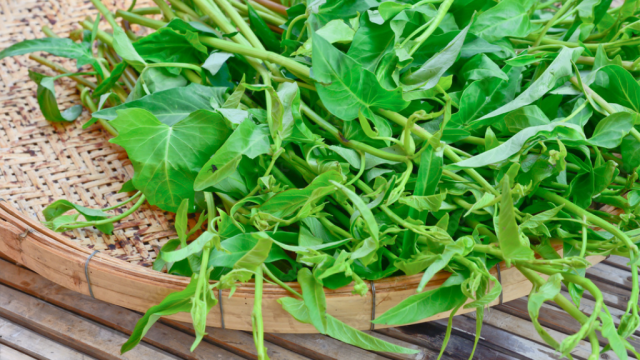Kangkung: (133, 12, 567, 273)
